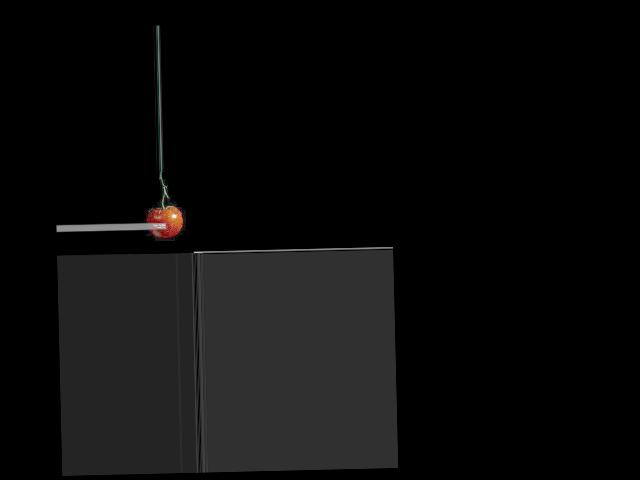tomato: (147, 206, 182, 237)
